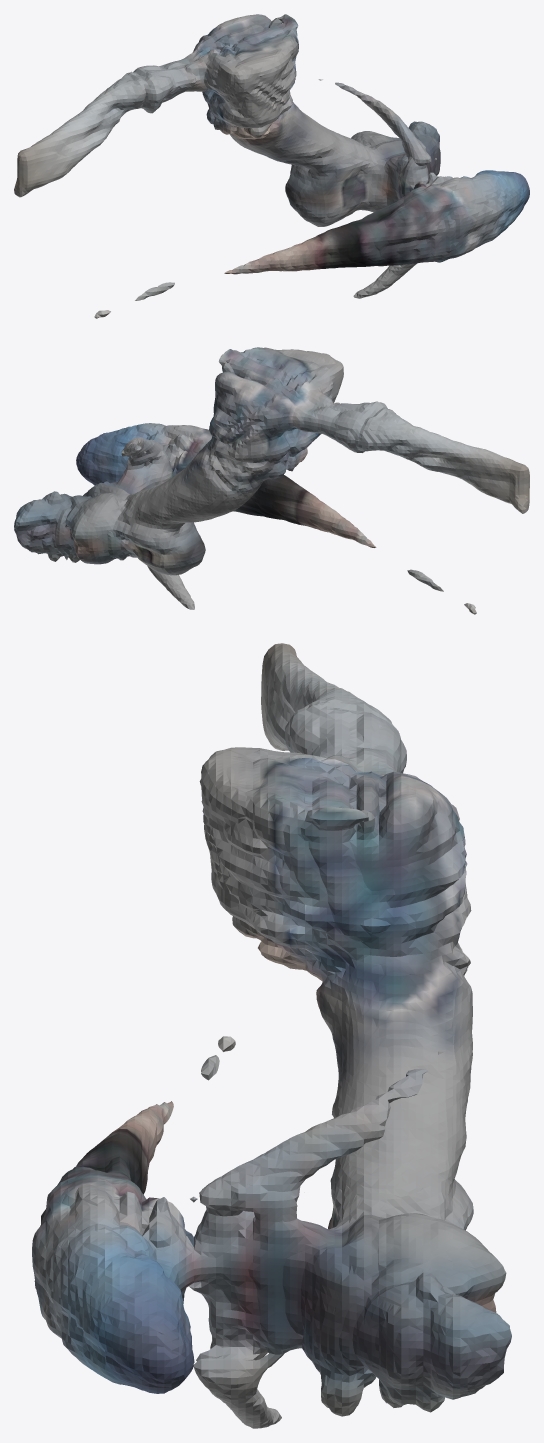
File: acanthicus-adonis.glb
3 renders of one model, top to bottom at view 1: azimuth 30°, elevation 25°; view 2: azimuth 150°, elevation 25°; view 3: azimuth 270°, elevation 25°, orthographic. The views are drawn at different scales.
Visible parts, largest first — view 1: world; view 2: world; view 3: world.
Boxes of the visible parts, x1,y1,x2,y2 form: world: (14,14,529,318); world: (14,347,529,614); world: (32,643,511,1428).
Size of the model in its own units: 1.02 by 0.5736 by 0.4426.
